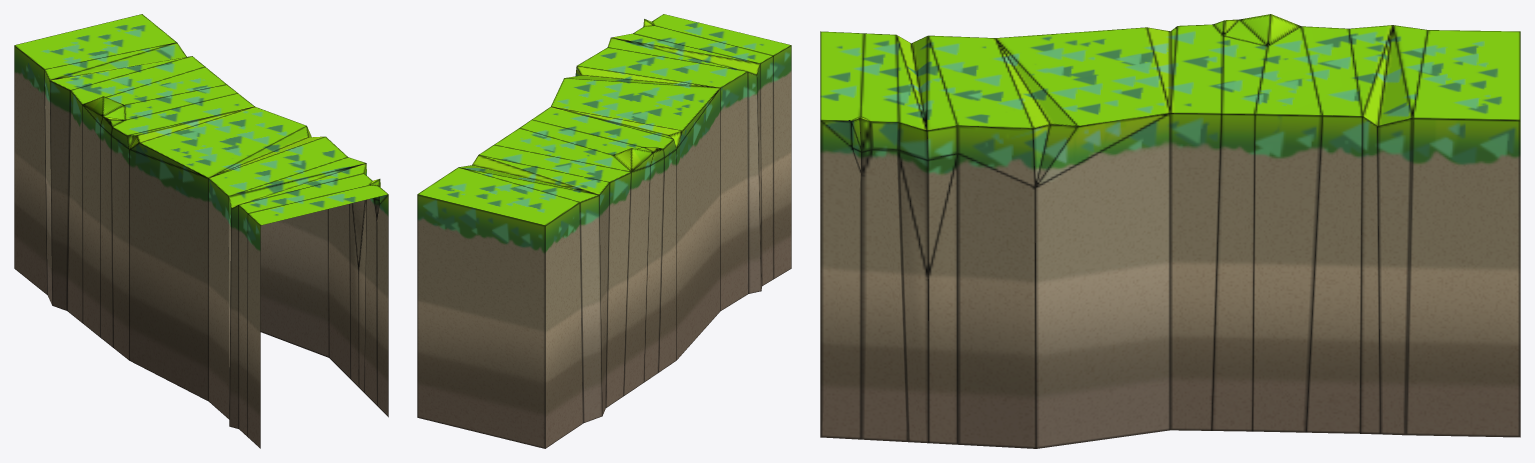
Rendered from BgMD_sano_stagefloor_01_01 (1).fbx.
3 views of the same model, side by side, from view 1: azimuth 30°, elevation 25°; view 2: azimuth 150°, elevation 25°; view 3: azimuth 270°, elevation 25° (orthographic). The views are drawn at different scales.
Parts seen in each view (by area): view 1: pCube1; view 2: pCube1; view 3: pCube1.
Part boxes in pixels (x1,y1,x2,y2): pCube1: [14, 14, 388, 448]; pCube1: [417, 14, 791, 448]; pCube1: [820, 14, 1520, 448].
Bounding box in the file's own units: 365 × 529 × 1000.
